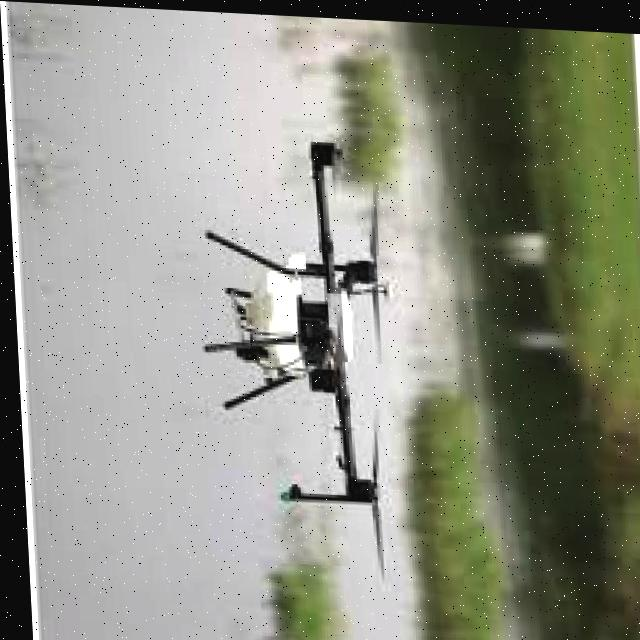drone: (169, 104, 415, 578)
